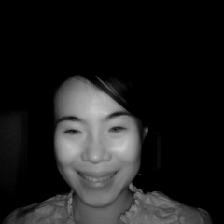happy: (36, 55, 163, 209)
